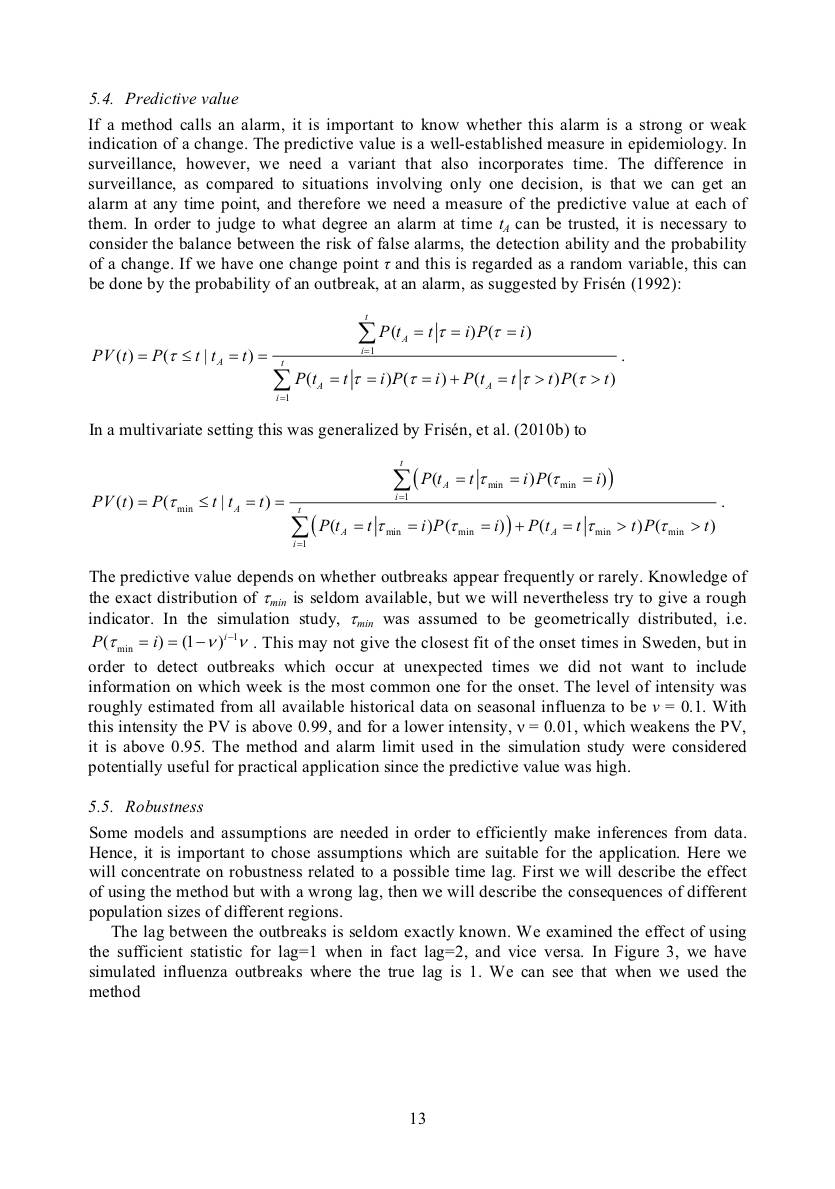formula: (91, 460, 723, 546), (91, 314, 623, 400)
